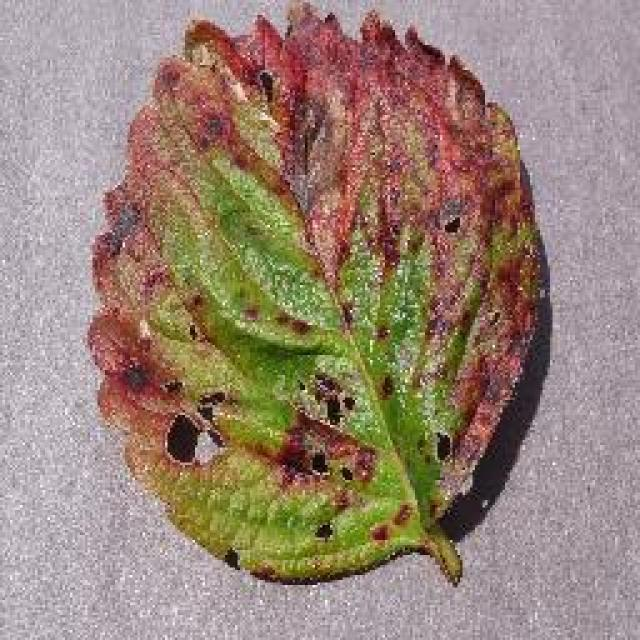Strawberry leaf scorch: (182, 53, 478, 487)
